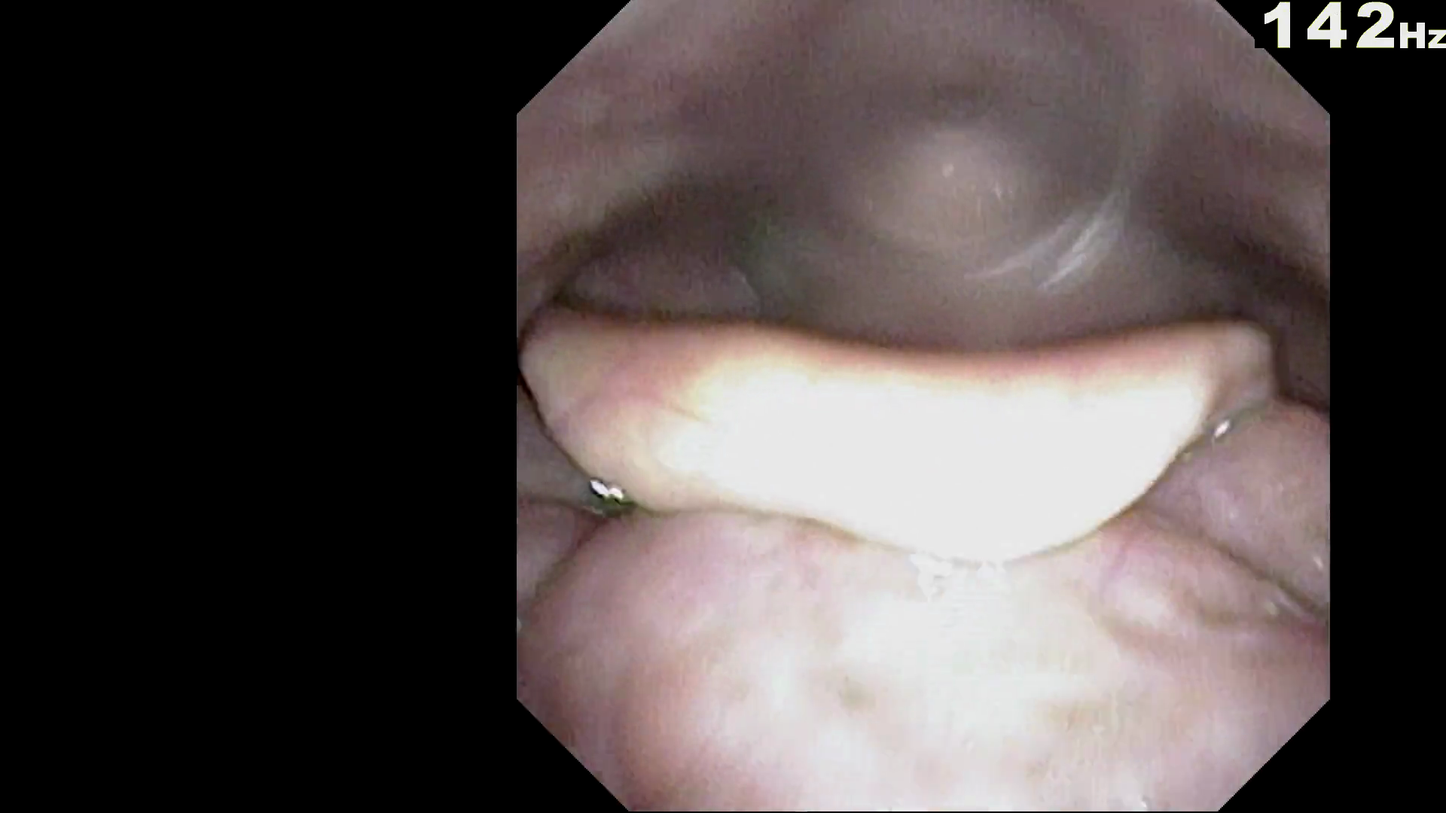epiglottis: (607, 316, 1222, 540)
